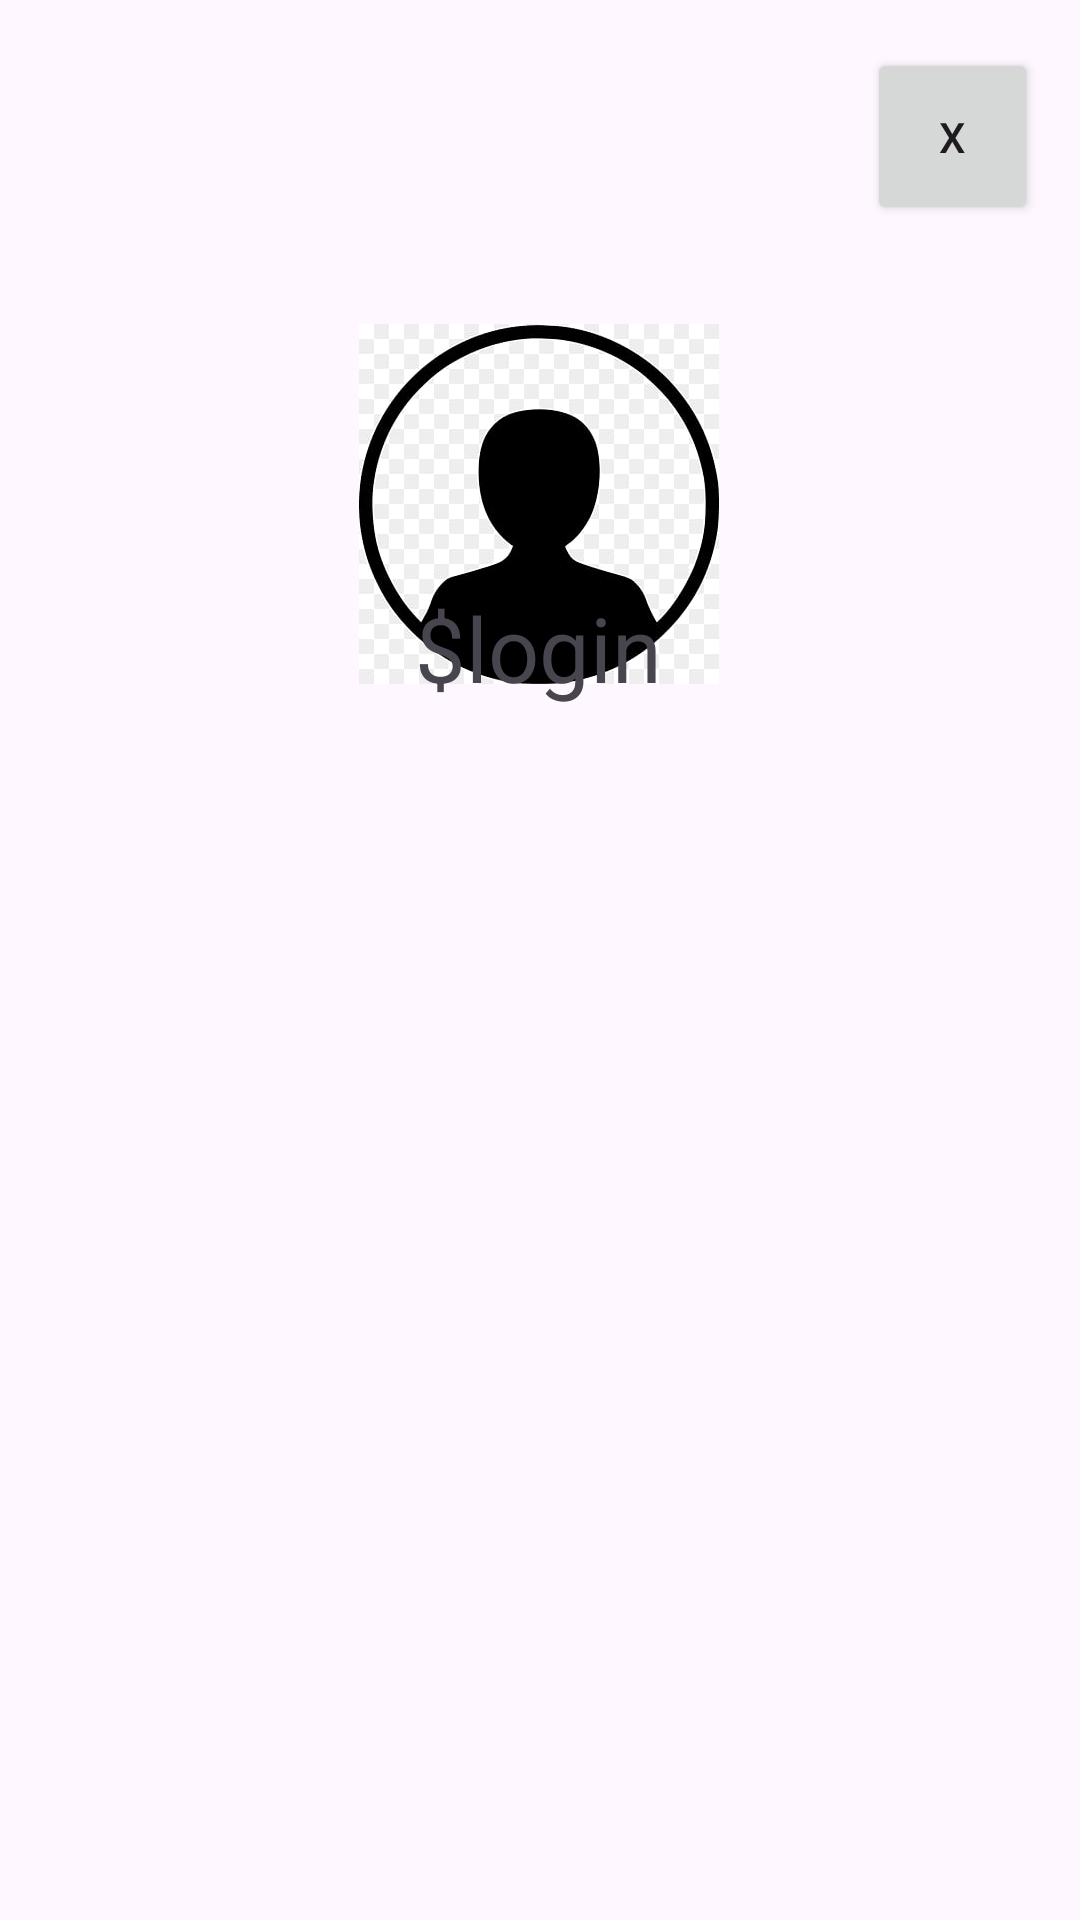

Named icons in this screenshot (1080px x 1920px) and their centers, (x,y):
profile: (539,504)
